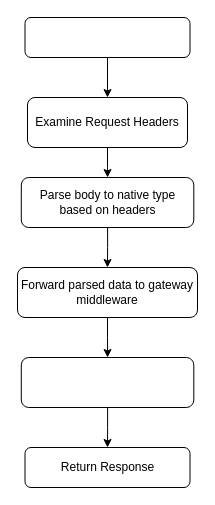
Some shapes in this 215 by 505 pixel diagram are drawn without their labels. Each missing label, with the box of its shape:
... other processes...: (20, 356, 194, 408)
Incoming Request: (24, 16, 190, 58)
